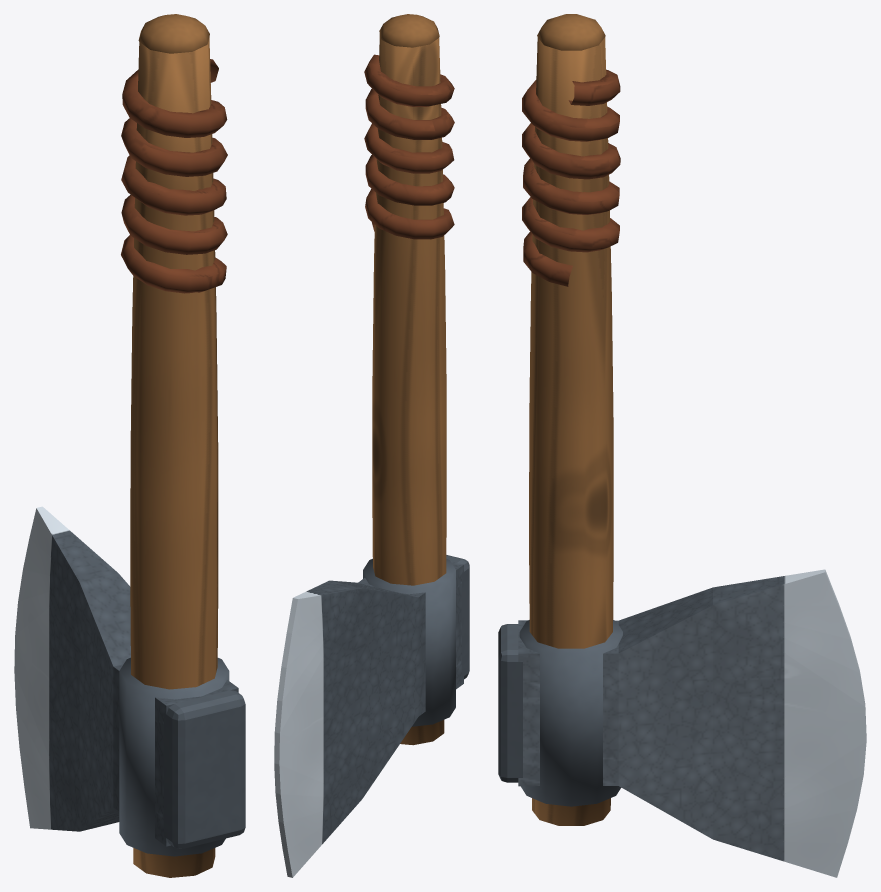
The model's file is tool_iron_axe.glb.
3 views of the same model, side by side, from view 1: azimuth 30°, elevation 25°; view 2: azimuth 150°, elevation 25°; view 3: azimuth 270°, elevation 25° (orthographic). The views are drawn at different scales.
Visible parts, largest first — view 1: Tool; view 2: Tool; view 3: Tool.
Boxes of the visible parts, box(x1,y1,x2,y2) form: Tool: box(14, 14, 245, 877); Tool: box(274, 14, 469, 877); Tool: box(498, 14, 866, 877).
Bounding box in the file's own units: 0.092 × 0.8418 × 0.3276.
Materials: 1 (1 with a texture image).
